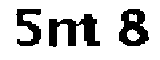5: (12, 6, 47, 51)
8: (115, 5, 151, 53)
n: (47, 14, 79, 53)
t: (80, 9, 107, 52)
